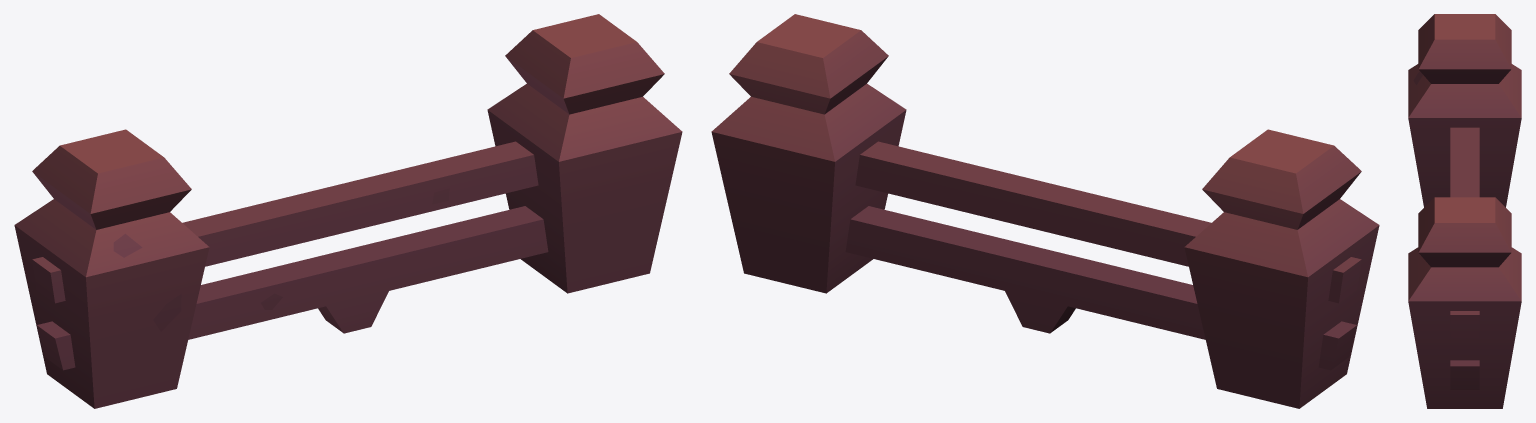
Rendered from fence_3.glb.
3 views of the same model, side by side, from view 1: azimuth 30°, elevation 25°; view 2: azimuth 150°, elevation 25°; view 3: azimuth 270°, elevation 25° (orthographic). The views are drawn at different scales.
Parts seen in each view (by area): view 1: fence_3; view 2: fence_3; view 3: fence_3.
Part boxes in pixels (left/top/right/bottom): fence_3: left=14, top=14, right=682, bottom=408; fence_3: left=711, top=14, right=1379, bottom=408; fence_3: left=1408, top=14, right=1521, bottom=408.
Bounding box in the file's own units: 2.46 × 0.8794 × 0.4949.
1 material, 1 textured.
